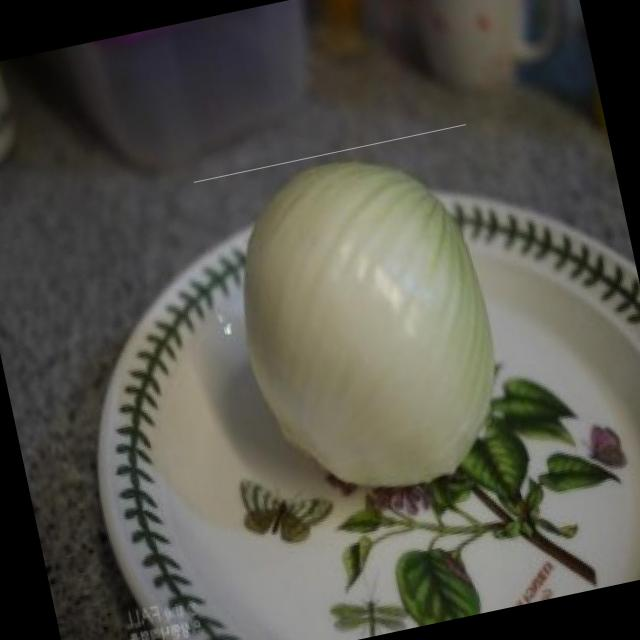Onion: (193, 124, 536, 516)
